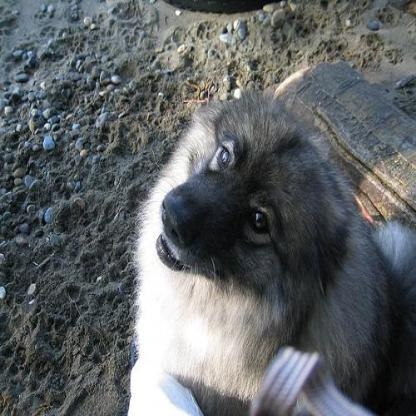keeshond: (138, 92, 414, 414)
